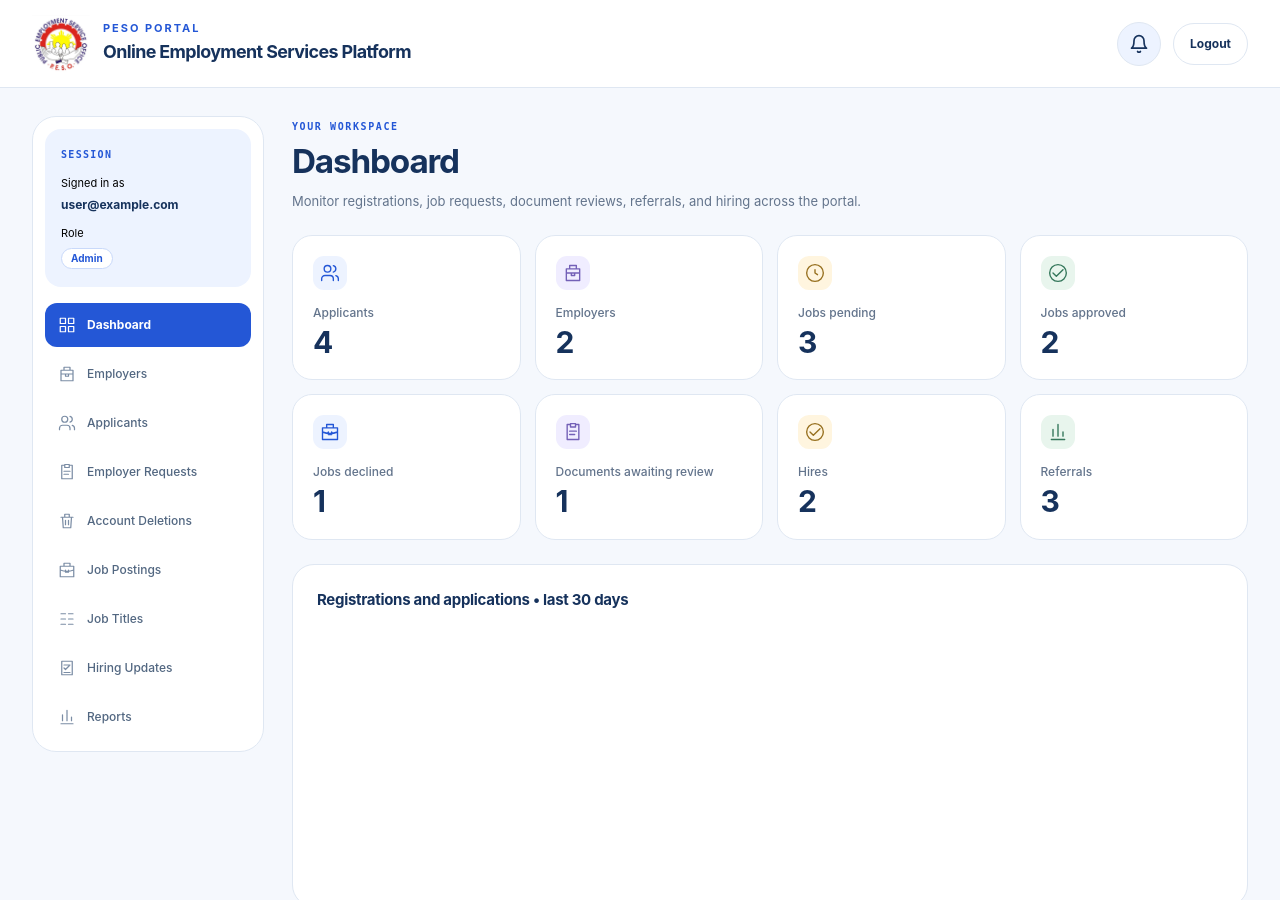
Test case: one dashboard per role › opens the admin hiring updates page from the Hires card
Click the button "Hires 2" at coordinates (891, 467), box [777,394,1006,540]
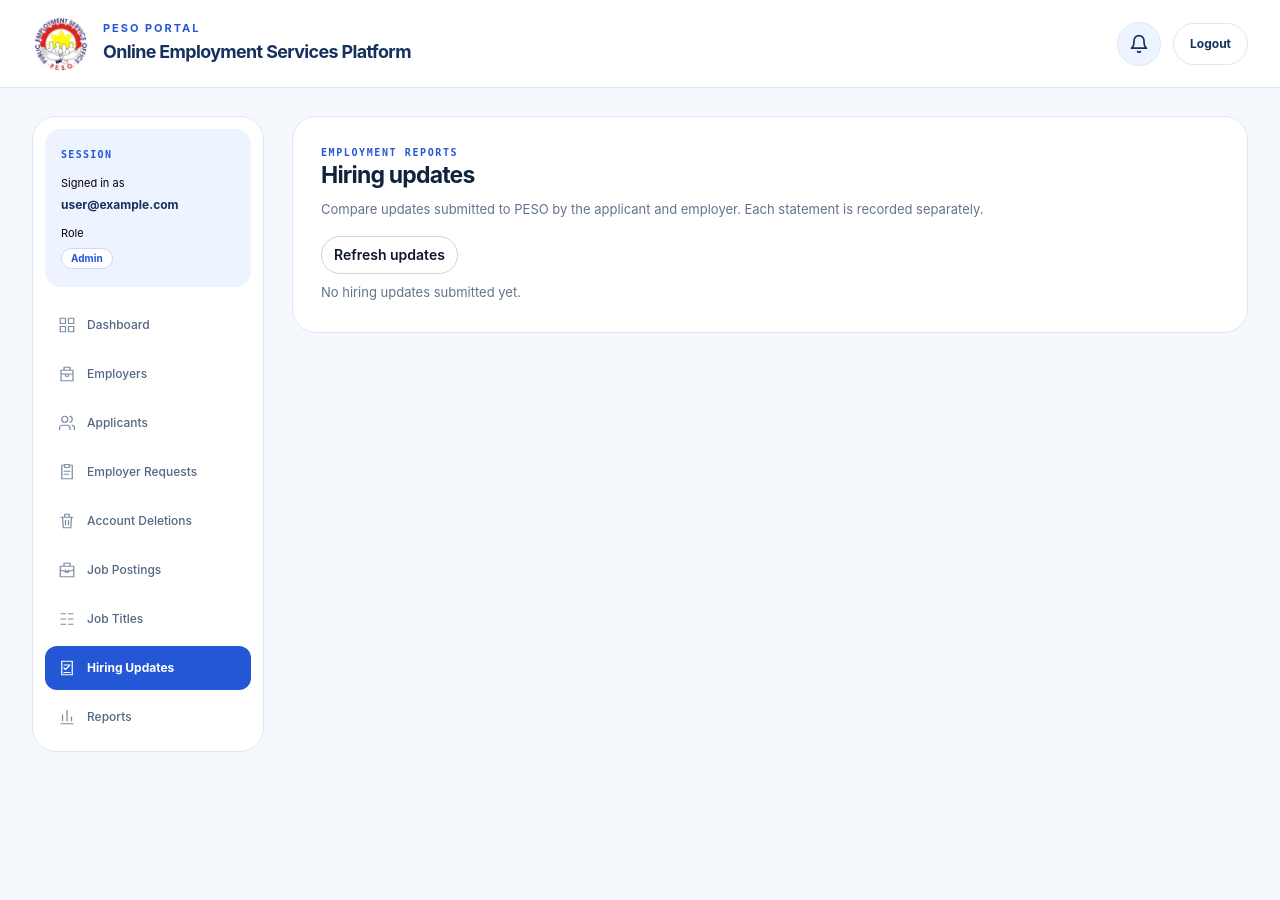
expect the heading "Hiring updates" is shown: met, box [321,161,475,189]
expect the text "No hiring updates submitted yet." is shown: met, box [321,284,521,300]
